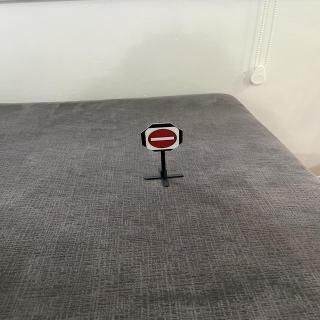sign_noentry: (146, 126, 182, 153)
